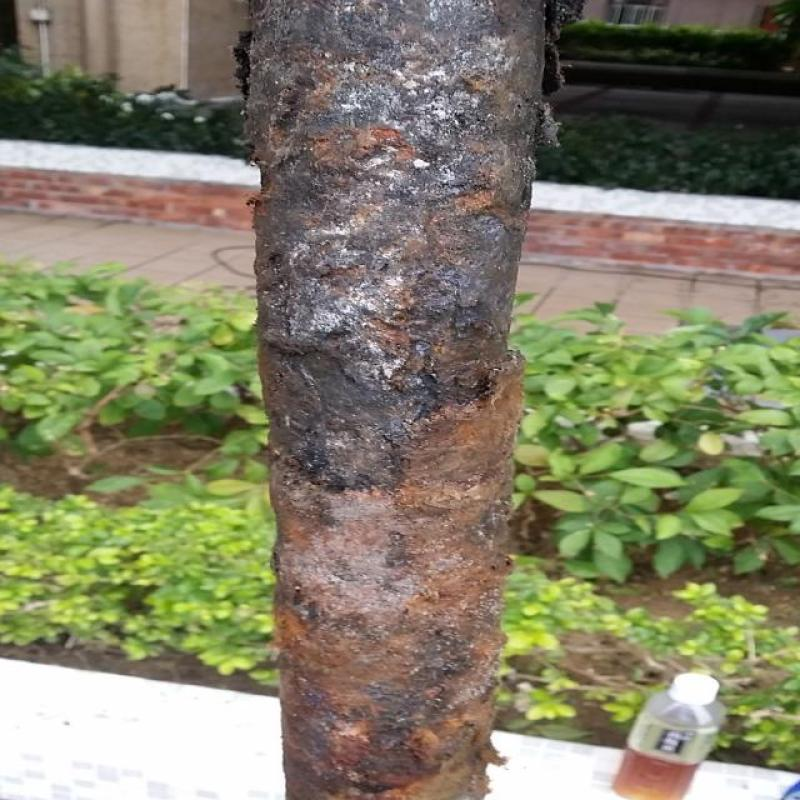corrosion: (280, 30, 495, 380)
